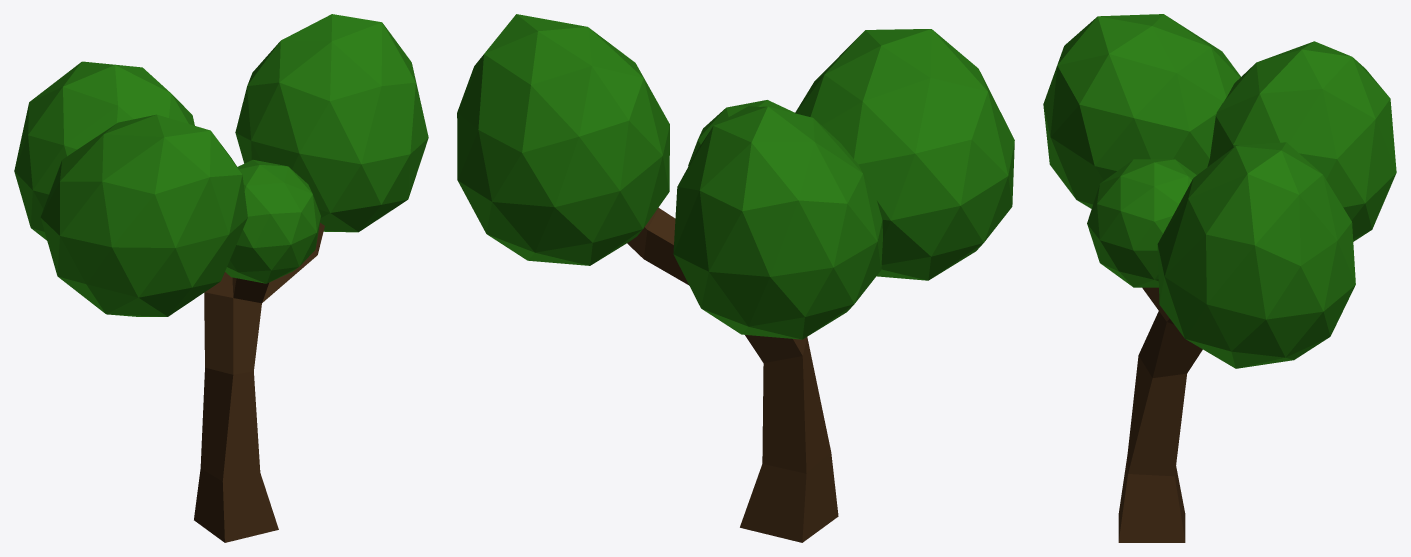
File: Tree_var2.fbx
3 views of the same model, side by side, from view 1: azimuth 30°, elevation 25°; view 2: azimuth 150°, elevation 25°; view 3: azimuth 270°, elevation 25° (orthographic). The views are drawn at different scales.
Parts seen in each view (by area): view 1: Tree2_LOD0; view 2: Tree2_LOD0; view 3: Tree2_LOD0.
Boxes of the visible parts, bbox=[...] form: Tree2_LOD0: bbox=[14, 14, 428, 542]; Tree2_LOD0: bbox=[457, 14, 1014, 542]; Tree2_LOD0: bbox=[1043, 14, 1396, 542].
Size of what is drawn, in the model's own units: 876 by 879 by 610.
